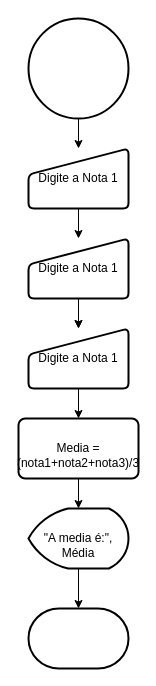
This 156x686 diagram has some shape labels left out. The centre of each missing label's shape, as x and y in pixels:
"Fim" belongs at pixel 78 638.
"Ínicio" belongs at pixel 78 68.
